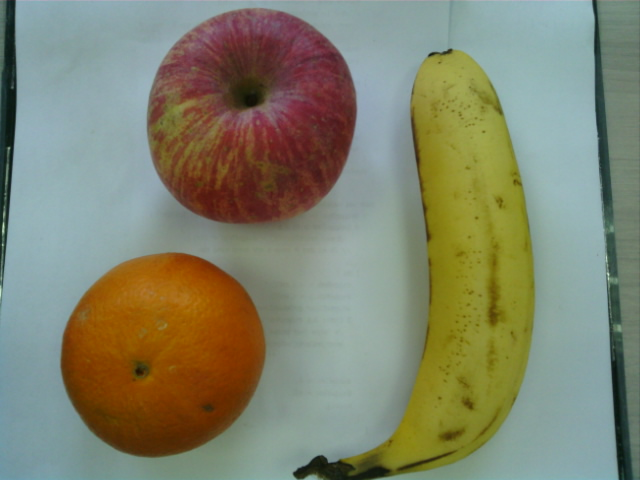normal_apple: (143, 5, 357, 225)
normal_banana: (366, 48, 536, 479)
normal_orange: (59, 251, 267, 460)
